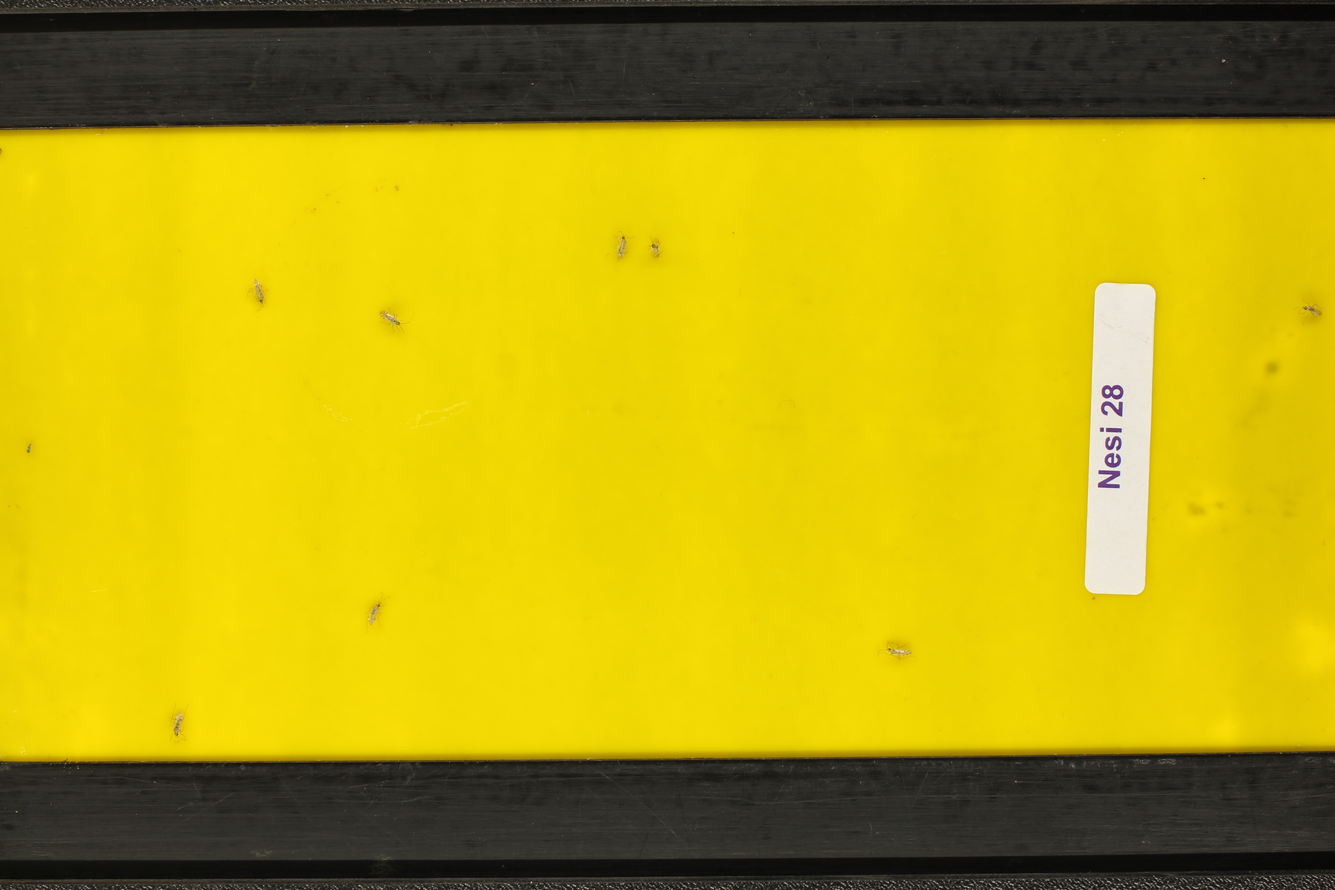NC: (376, 304, 416, 335), (362, 590, 391, 629), (244, 275, 272, 313), (879, 640, 918, 664), (610, 229, 636, 264), (1296, 296, 1325, 326), (168, 702, 188, 744), (646, 235, 664, 261)
